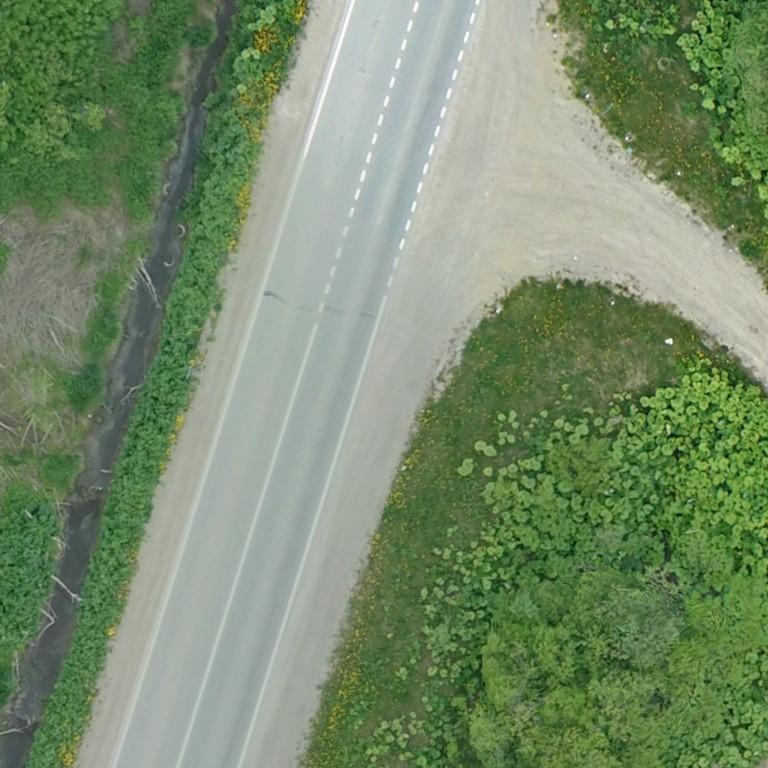hogweed: (25, 94, 249, 767), (0, 489, 60, 706)
